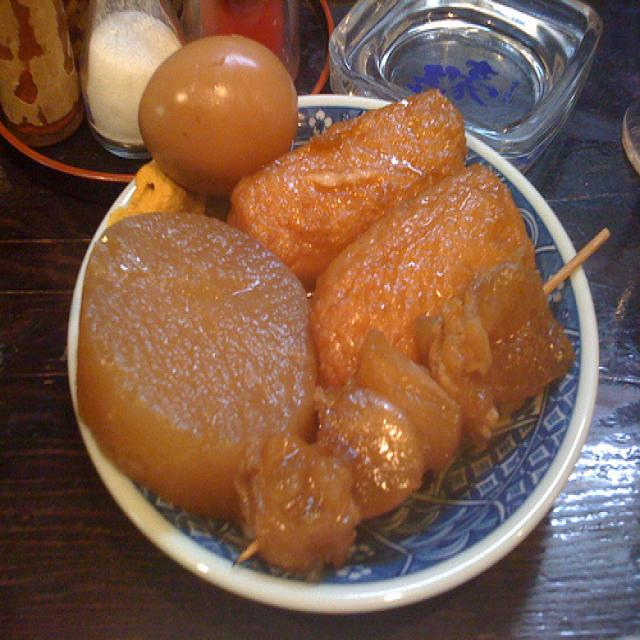汤锅炖物: (68, 25, 614, 577)
